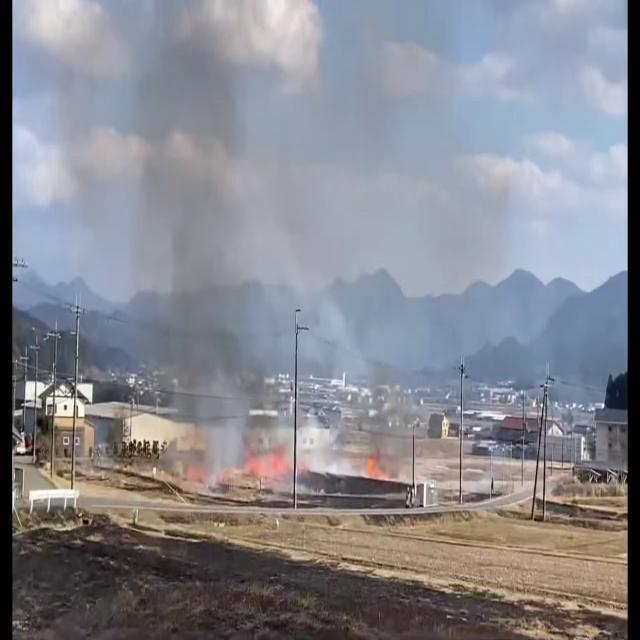Smoke: (56, 1, 396, 481)
